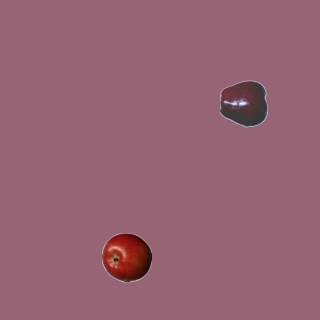Apple Braeburn: (101, 232, 151, 282)
Apple Red Delicious: (219, 78, 269, 128)
